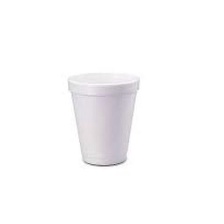paper_cup: (61, 66, 145, 170)
